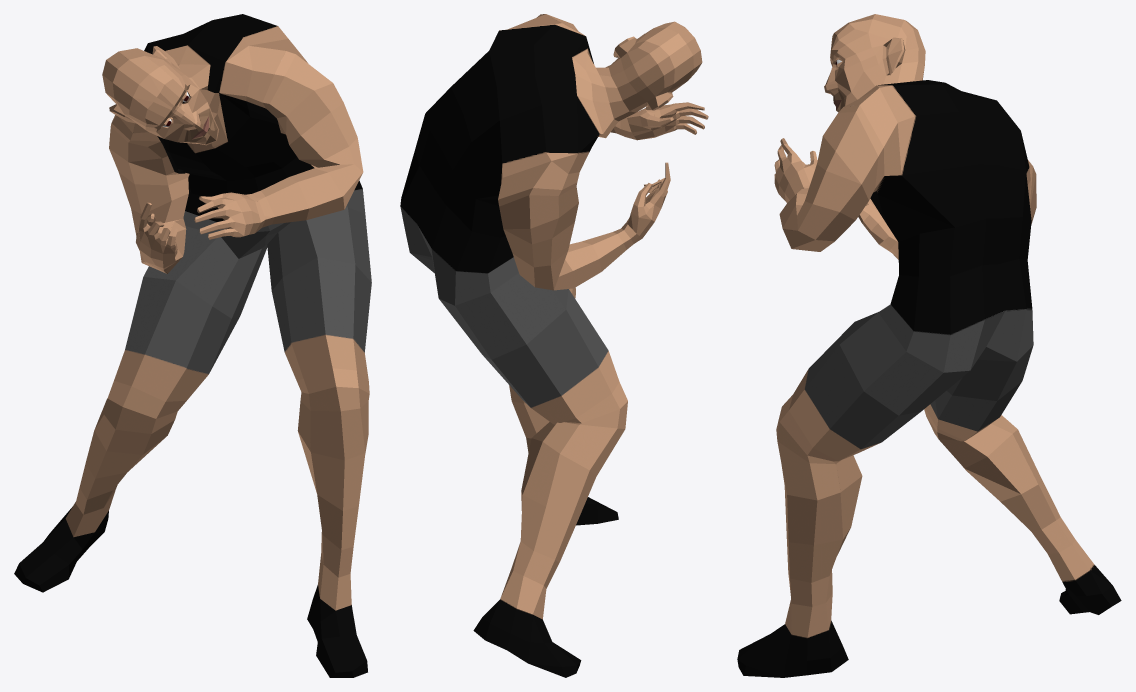
Rendered from PlayerDead(6).obj.
The picture shows the model from 3 angles, left to right: view 1: azimuth 30°, elevation 25°; view 2: azimuth 150°, elevation 25°; view 3: azimuth 270°, elevation 25°; orthographic projection. The views are drawn at different scales.
Visible parts, largest first — view 1: Plane002; view 2: Plane002; view 3: Plane002.
Part boxes in pixels (left/top/right/bottom): Plane002: left=14, top=14, right=371, bottom=677; Plane002: left=400, top=14, right=708, bottom=677; Plane002: left=737, top=14, right=1121, bottom=677.
Size of the model in its own units: 664 by 1416 by 844.
